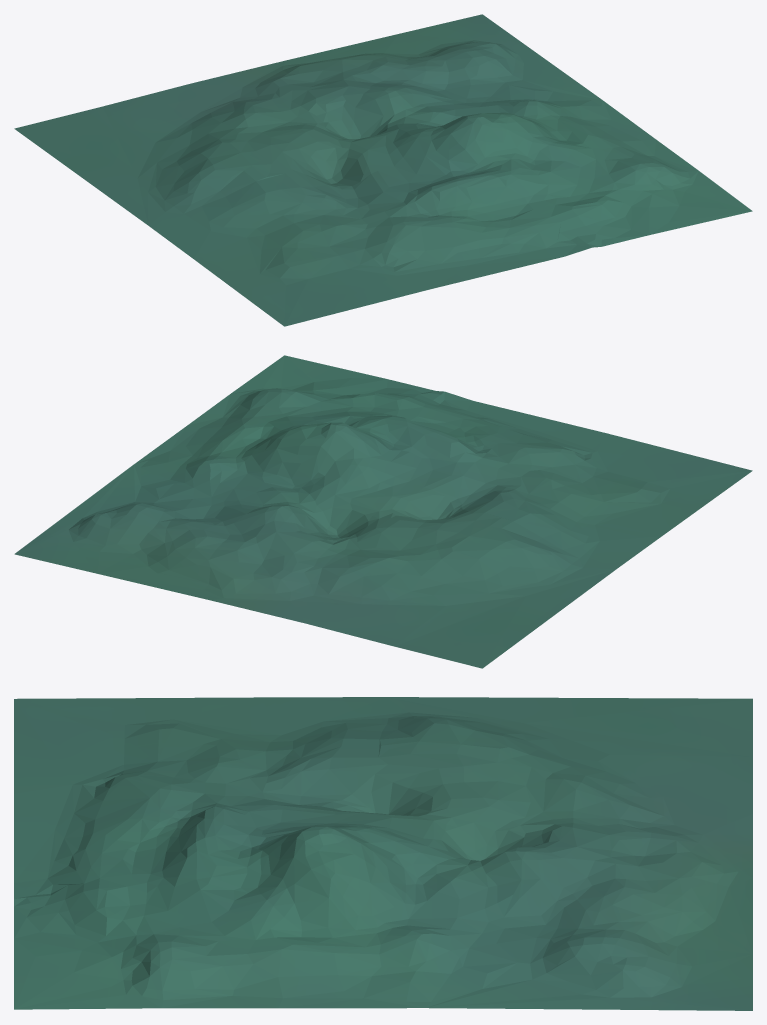
The model's file is landscape8.fbx.
The picture shows the model from 3 angles, top to bottom: view 1: azimuth 30°, elevation 25°; view 2: azimuth 150°, elevation 25°; view 3: azimuth 270°, elevation 25°; orthographic projection. The views are drawn at different scales.
Parts seen in each view (by area): view 1: Plane; view 2: Plane; view 3: Plane.
Boxes of the visible parts, <box> form: Plane: <box>14,14,752,326</box>; Plane: <box>14,355,752,668</box>; Plane: <box>14,697,752,1010</box>.
Size of the model in its own units: 32000 by 3453 by 32000.
